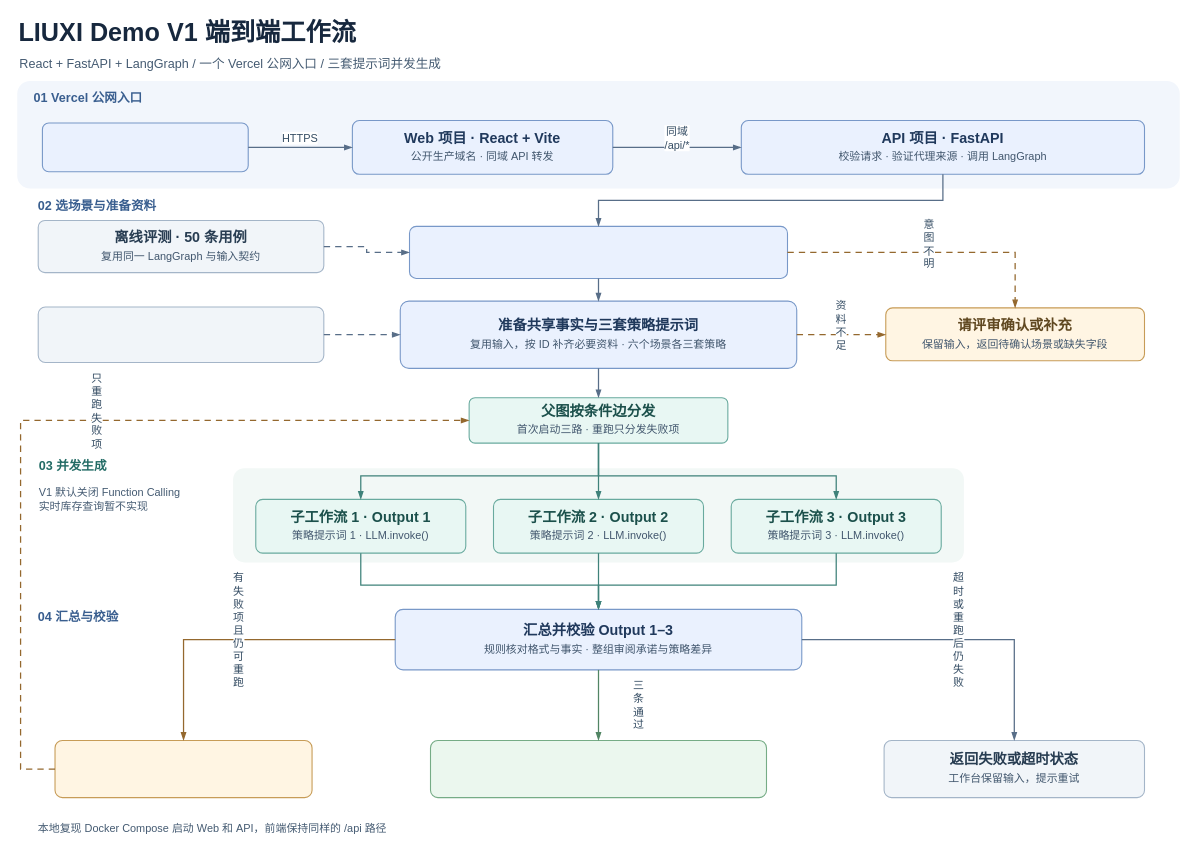
The diagram is 1194 pixels wide and 853 high, and some of its shapes have lost their labels. The shapes that lost their labels are listed below. From the top down, each one's box as (x1, y1, x2, y2) in pixels, then its label:
(41, 122, 248, 172): 评审浏览器 打开生产链接 · 选择或编辑样例
(409, 225, 788, 279): 场景路由 显式场景直达 · 自由输入识别 BG / PR / PC / RE / EV / PO
(37, 306, 324, 363): 只读资料 · JSON 与规则 客户档案、商品及护理条目、活动、演示预设
(54, 740, 312, 798): 定向重跑失败项 保留合格项 · 传入失败原因 · 最多一轮
(430, 740, 767, 798): 返回三条合格话术 浏览器显示三张结果卡 · 支持编辑和复制
